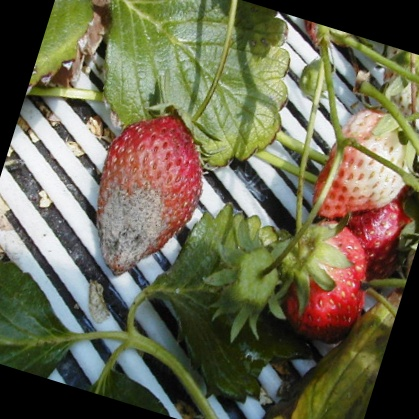Gray_Mold: (96, 156, 199, 302)
